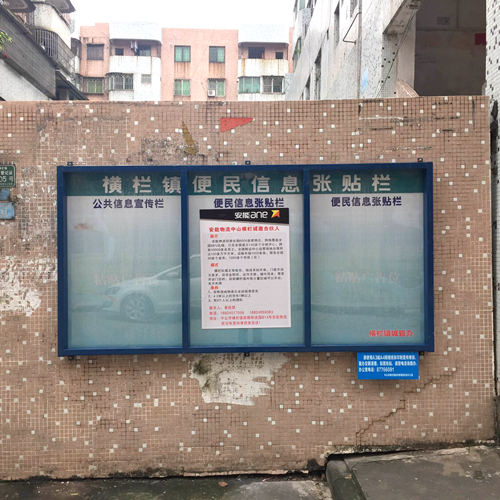bill: (200, 211, 292, 329)
